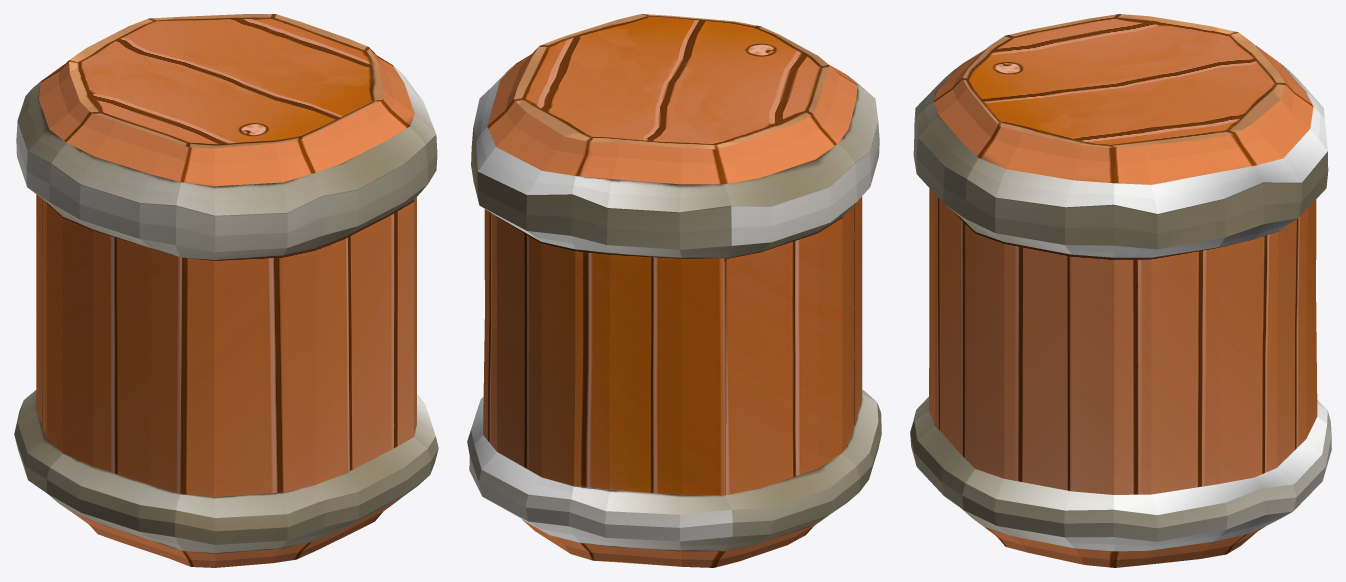
Rendered from Boshika.fbx.
The picture shows the model from 3 angles, left to right: view 1: azimuth 30°, elevation 25°; view 2: azimuth 150°, elevation 25°; view 3: azimuth 270°, elevation 25°; orthographic projection.
Visible parts, largest first — view 1: Bohsika; view 2: Bohsika; view 3: Bohsika.
Part boxes in pixels (x1,y1,x2,y2): Bohsika: (14, 14, 438, 567); Bohsika: (467, 14, 881, 567); Bohsika: (910, 14, 1331, 567).
Size of the model in its own units: 550 by 618 by 552.
